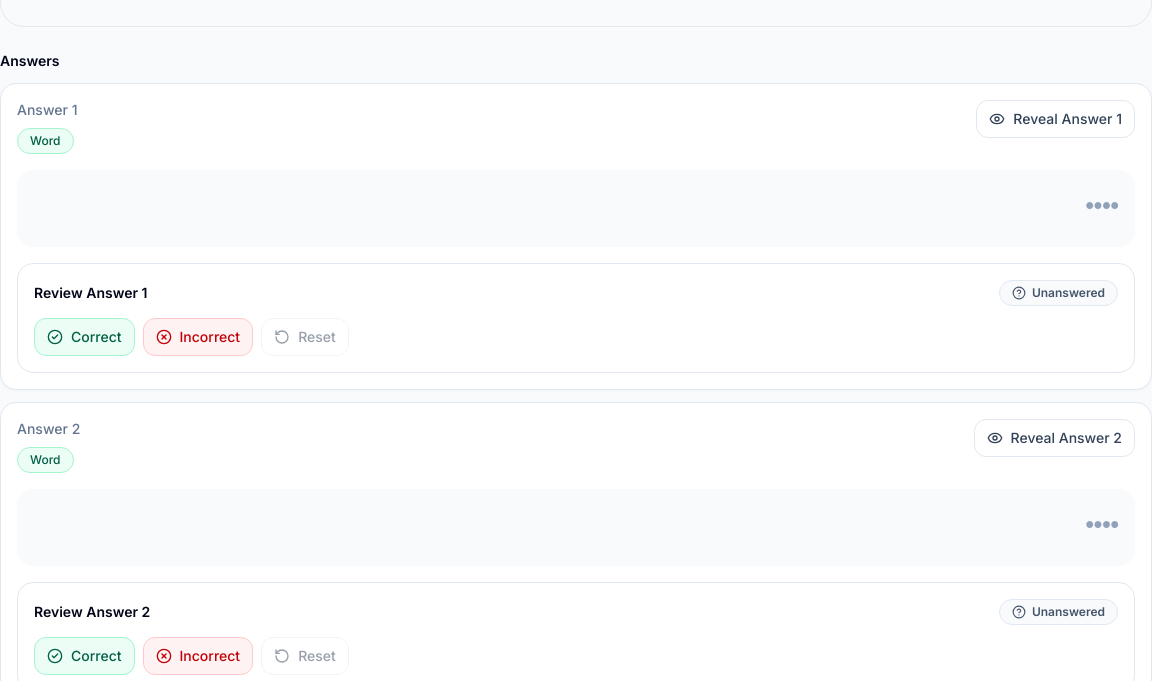
GeneratedQuizPreview review mode › resets one reviewed answer
(page scrolled)
Click the button with aria-label "mark answer 1 correct". click: {"x": 84, "y": 337}
box: [34, 318, 134, 356]
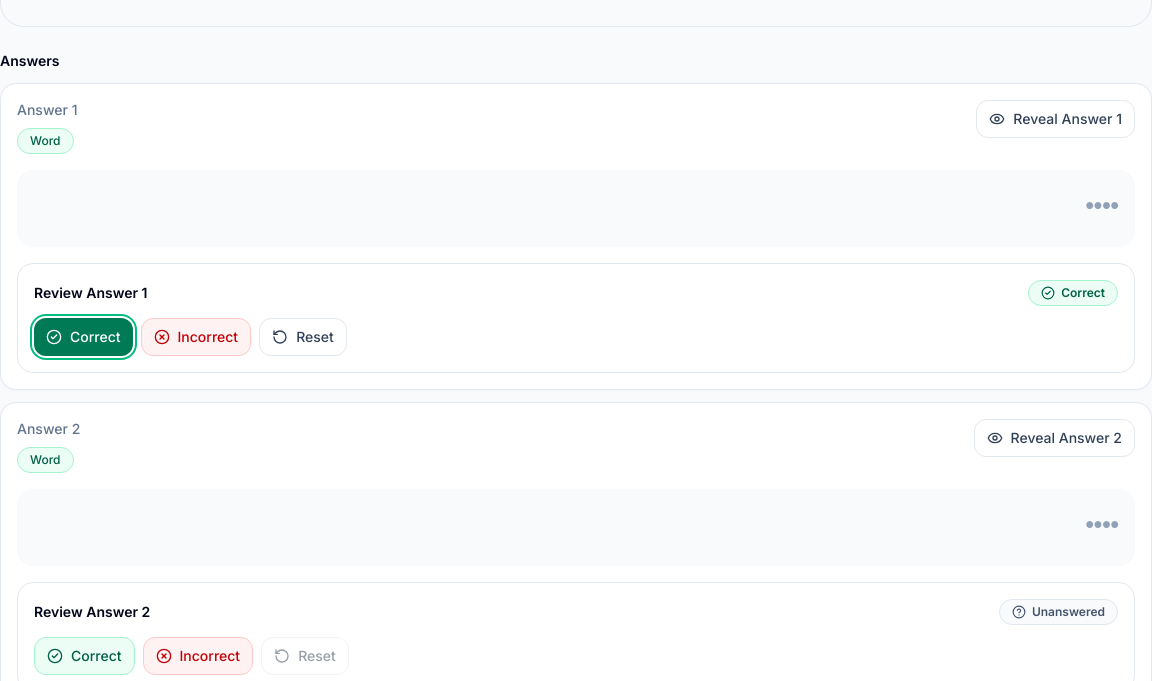
Click the button with aria-label "reset answer 1 review". click: {"x": 303, "y": 337}
box: [259, 318, 347, 356]
(page scrolled)
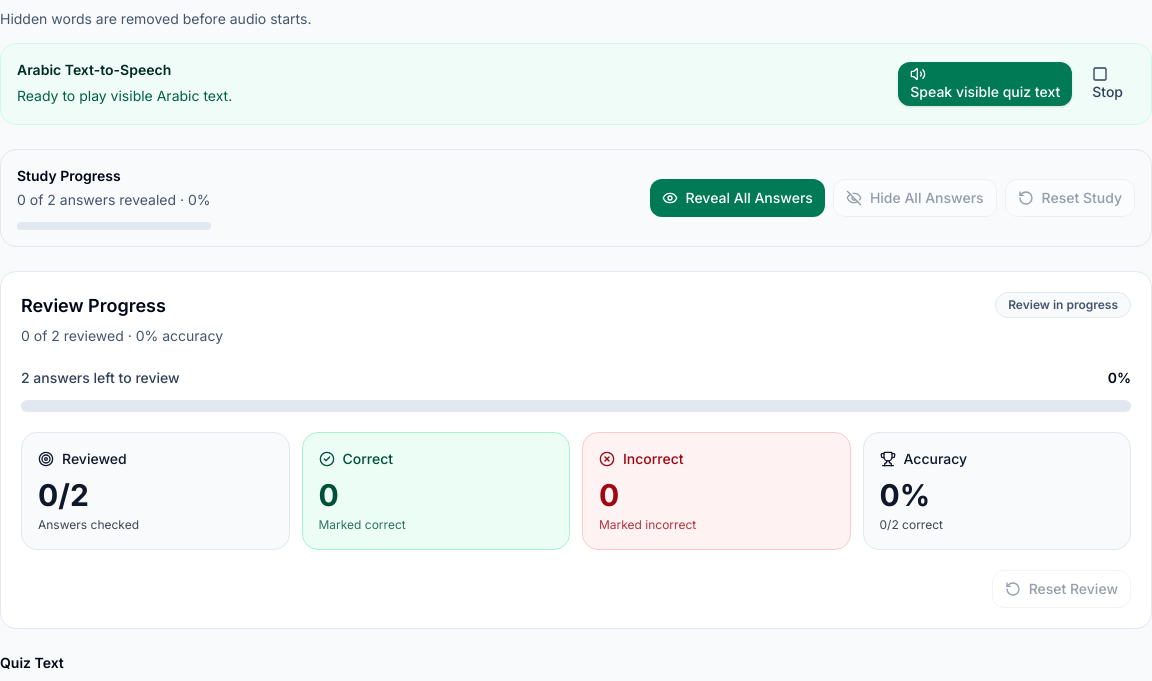
Expected: the text with test id "review-progress-summary-text" reads "0 of 2 reviewed · 0% accuracy", [21, 327, 223, 344]
